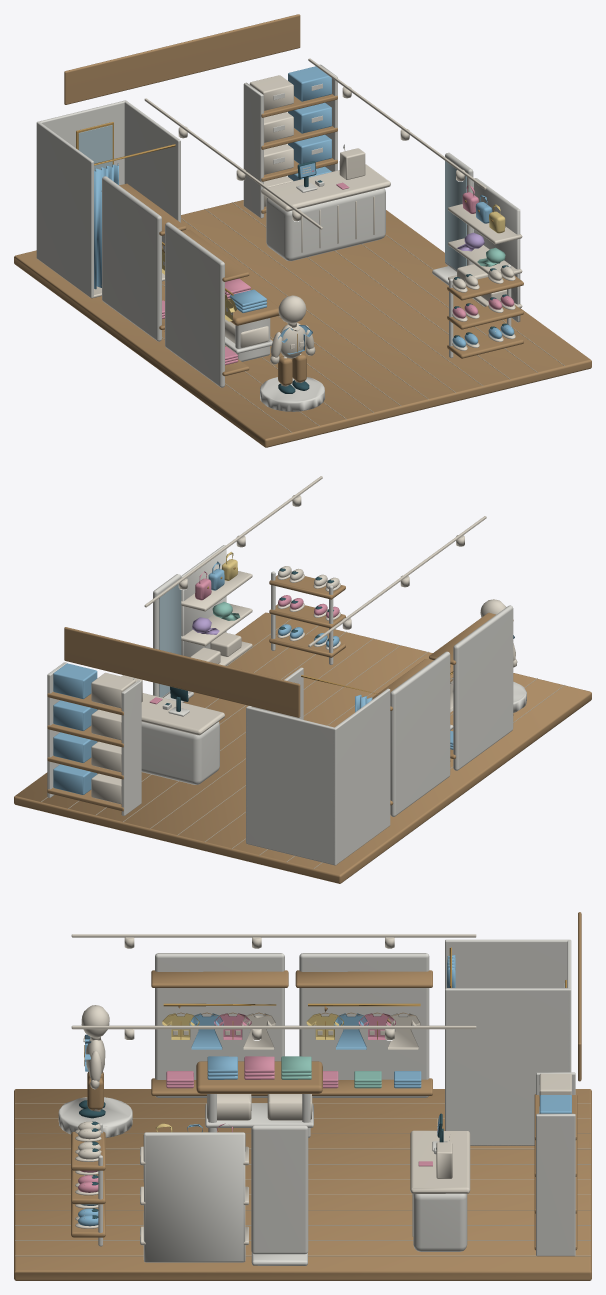
Rendered from shop_A.glb.
The picture shows the model from 3 angles, top to bottom: view 1: azimuth 30°, elevation 25°; view 2: azimuth 150°, elevation 25°; view 3: azimuth 270°, elevation 25°; orthographic projection. The views are drawn at different scales.
Parts seen in each view (by area): view 1: floor, svc:4:FIXTURE_Fitting_01, svc:1:FIXTURE_Back_Stock, svc:2:FIXTURE_Checkout, room:7:FIXTURE_Left_Wall_Apparel, room:8:FIXTURE_Left_Wall_Apparel.001, svc:14:Store_Brand_Panel, room:0:FIXTURE_Accessories, room:6:FIXTURE_Footwear, room:10:FIXTURE_Window_Outfit_01, room:9:FIXTURE_New_Arrivals, room:3:FIXTURE_Customer_Mirror (+3 smaller); view 2: floor, svc:4:FIXTURE_Fitting_01, svc:1:FIXTURE_Back_Stock, room:7:FIXTURE_Left_Wall_Apparel, svc:14:Store_Brand_Panel, room:8:FIXTURE_Left_Wall_Apparel.001, svc:2:FIXTURE_Checkout, room:0:FIXTURE_Accessories, room:6:FIXTURE_Footwear, room:3:FIXTURE_Customer_Mirror, svc:13:Track_Spot_Housing, svc:12:Track_Spot_Housing (+1 smaller); view 3: floor, svc:4:FIXTURE_Fitting_01, room:8:FIXTURE_Left_Wall_Apparel.001, room:7:FIXTURE_Left_Wall_Apparel, room:0:FIXTURE_Accessories, room:3:FIXTURE_Customer_Mirror, room:9:FIXTURE_New_Arrivals, svc:1:FIXTURE_Back_Stock, svc:2:FIXTURE_Checkout, room:10:FIXTURE_Window_Outfit_01, room:6:FIXTURE_Footwear, svc:13:Track_Spot_Housing (+2 smaller).
Part boxes in pixels (x1,y1,x2,y2): floor: [14, 200, 591, 447]; svc:4:FIXTURE_Fitting_01: [36, 100, 180, 298]; svc:1:FIXTURE_Back_Stock: [243, 64, 337, 218]; svc:2:FIXTURE_Checkout: [261, 144, 390, 261]; room:7:FIXTURE_Left_Wall_Apparel: [164, 222, 249, 387]; room:8:FIXTURE_Left_Wall_Apparel.001: [101, 176, 186, 341]; svc:14:Store_Brand_Panel: [64, 14, 300, 104]; room:0:FIXTURE_Accessories: [448, 178, 522, 322]; room:6:FIXTURE_Footwear: [447, 264, 523, 358]; room:10:FIXTURE_Window_Outfit_01: [260, 295, 324, 411]; room:9:FIXTURE_New_Arrivals: [225, 278, 279, 361]; room:3:FIXTURE_Customer_Mirror: [432, 152, 473, 285]; floor: [14, 612, 591, 883]; svc:4:FIXTURE_Fitting_01: [246, 667, 390, 865]; svc:1:FIXTURE_Back_Stock: [47, 662, 141, 815]; room:7:FIXTURE_Left_Wall_Apparel: [429, 605, 513, 770]; svc:14:Store_Brand_Panel: [64, 627, 300, 717]; room:8:FIXTURE_Left_Wall_Apparel.001: [372, 651, 450, 816]; svc:2:FIXTURE_Checkout: [97, 675, 224, 784]; room:0:FIXTURE_Accessories: [181, 545, 252, 665]; room:6:FIXTURE_Footwear: [269, 566, 345, 664]; room:3:FIXTURE_Customer_Mirror: [153, 574, 193, 702]; svc:13:Track_Spot_Housing: [144, 476, 322, 607]; svc:12:Track_Spot_Housing: [308, 516, 486, 647]; floor: [14, 1089, 591, 1280]; svc:4:FIXTURE_Fitting_01: [445, 939, 571, 1145]; room:8:FIXTURE_Left_Wall_Apparel.001: [295, 953, 432, 1097]; room:7:FIXTURE_Left_Wall_Apparel: [151, 953, 288, 1097]; room:0:FIXTURE_Accessories: [140, 1123, 249, 1262]; room:3:FIXTURE_Customer_Mirror: [251, 1125, 308, 1265]; room:9:FIXTURE_New_Arrivals: [196, 1056, 322, 1137]; svc:1:FIXTURE_Back_Stock: [534, 1072, 577, 1256]; svc:2:FIXTURE_Checkout: [410, 1113, 470, 1251]; room:10:FIXTURE_Window_Outfit_01: [58, 1005, 132, 1137]; room:6:FIXTURE_Footwear: [71, 1121, 105, 1246]; svc:13:Track_Spot_Housing: [71, 1025, 476, 1040].
Size of the model in its own units: 6 by 3.25 by 8.
